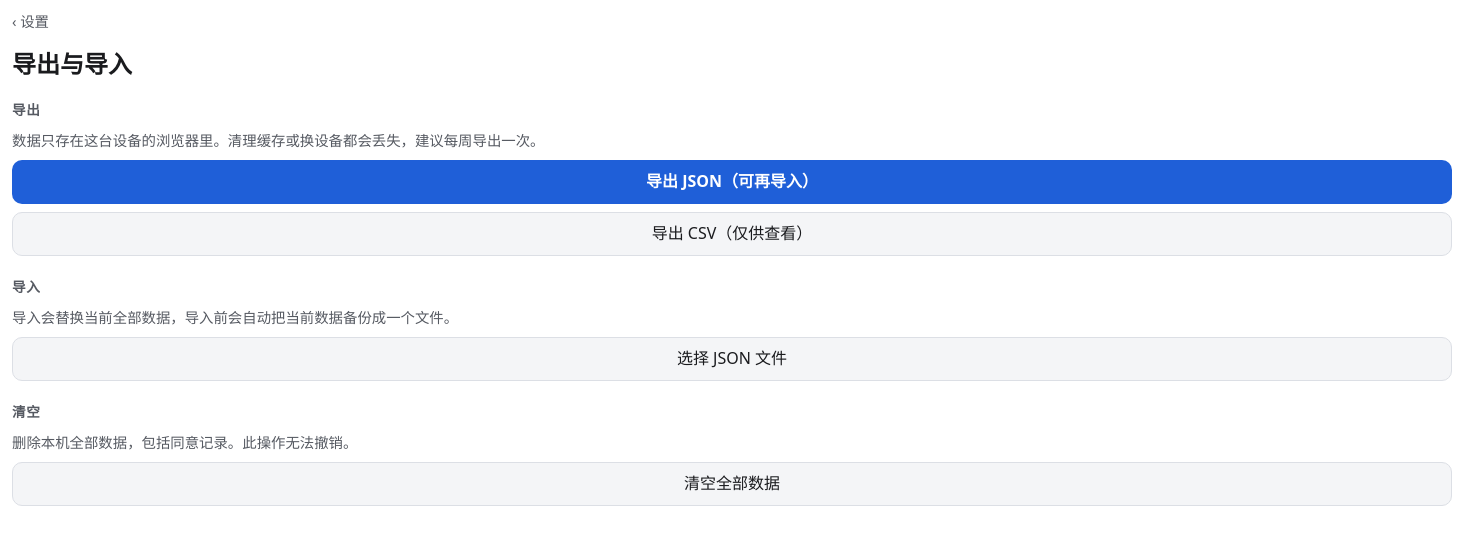
Scenario: 清空 › 先要求确认，确认按钮的措辞说明不可恢复
The image size is (1464, 560).
What coordinates should you click on to do the following:
click the button "清空全部数据"
I would click on:
 (732, 484)
Its box is [12, 462, 1452, 506].
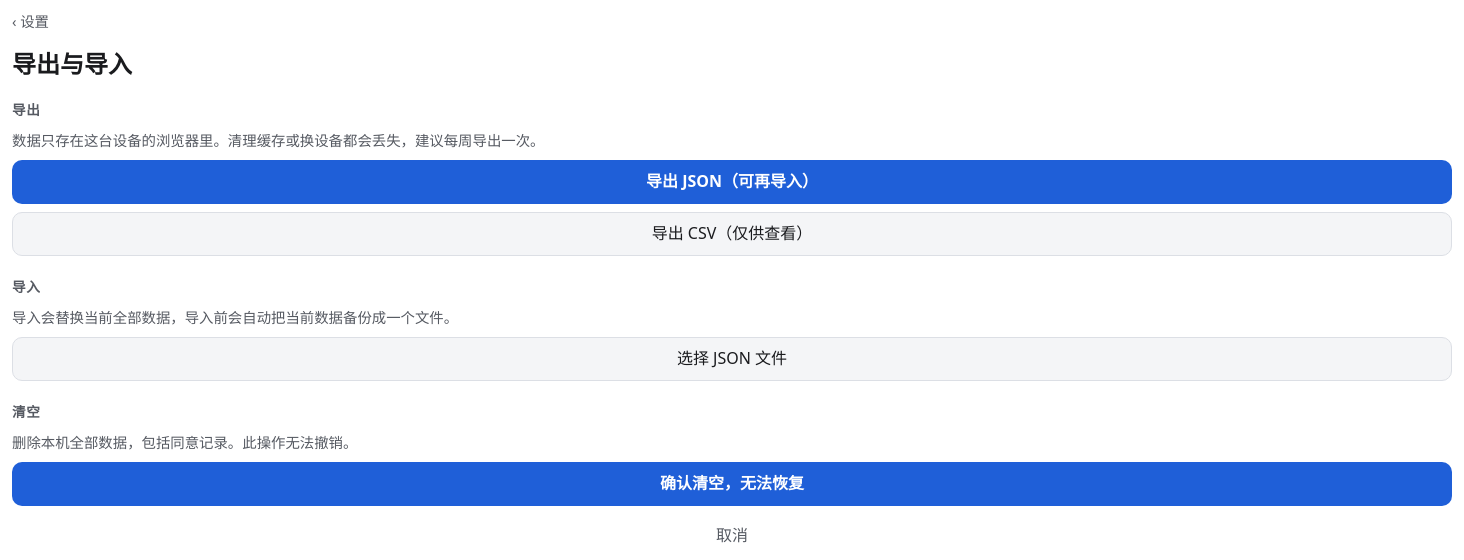
Check: the button "确认清空，无法恢复" is shown, box [12, 462, 1452, 506]
